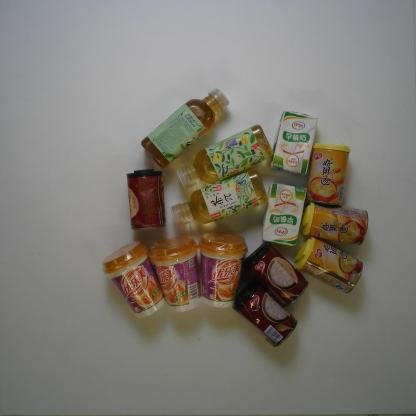Canned Food: (241, 239, 310, 308), (231, 279, 299, 349), (292, 235, 365, 295), (299, 200, 370, 247), (304, 140, 352, 208), (125, 166, 167, 233)
Drink: (139, 85, 231, 170), (174, 122, 275, 192), (169, 168, 270, 227)
Instant Drink: (99, 238, 167, 319), (148, 232, 201, 314), (198, 230, 250, 310)
Milk: (267, 108, 320, 178), (261, 181, 308, 248)
